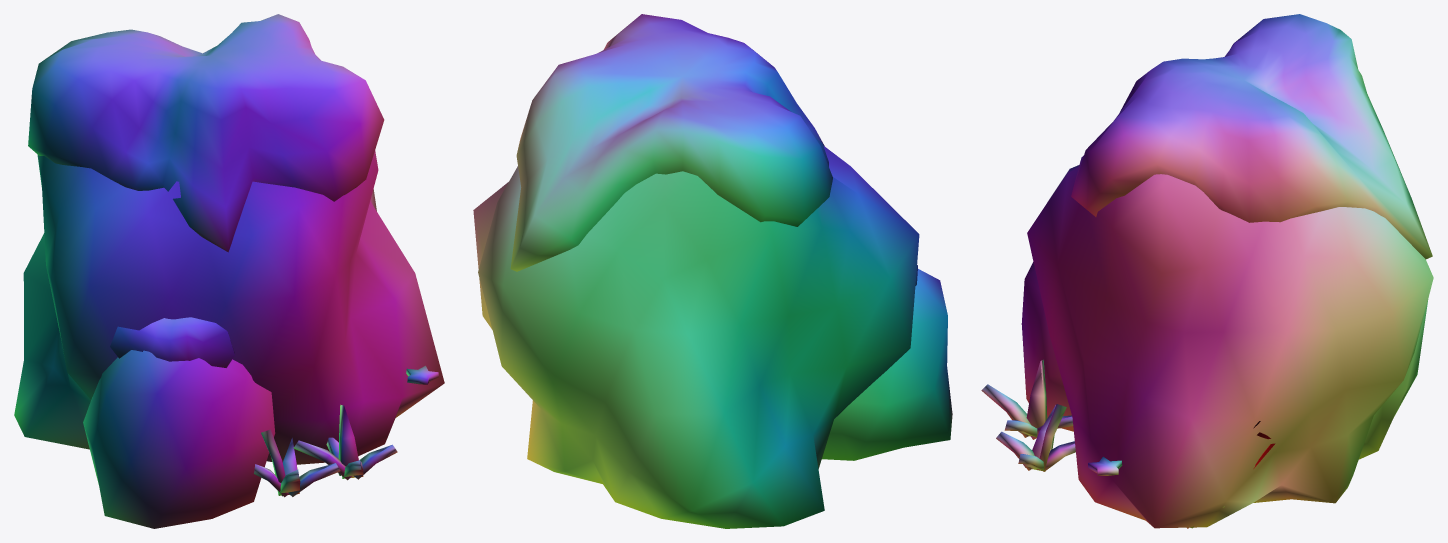
Rendered from SM_Outcrop_March_V4.fbx.
3 renders of one model, left to right at view 1: azimuth 30°, elevation 25°; view 2: azimuth 150°, elevation 25°; view 3: azimuth 270°, elevation 25°, orthographic. The views are drawn at different scales.
Visible parts, largest first — view 1: SM_Outcrop_March_V4; view 2: SM_Outcrop_March_V4; view 3: SM_Outcrop_March_V4.
Boxes of the visible parts, box(x1,y1,x2,y2) form: SM_Outcrop_March_V4: box(14, 14, 444, 528); SM_Outcrop_March_V4: box(473, 14, 952, 528); SM_Outcrop_March_V4: box(981, 14, 1433, 528).
Size of the model in its own units: 1.46 by 1.39 by 1.5.
